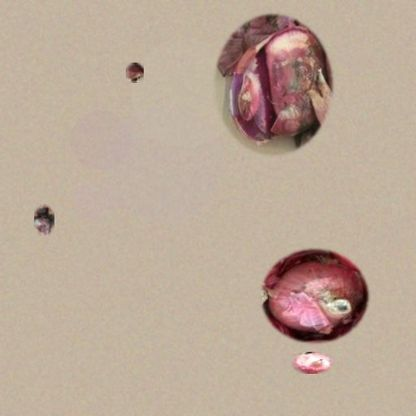damaged: (210, 10, 336, 160)
healthy: (258, 246, 371, 346)
rotten: (292, 352, 333, 374), (34, 204, 54, 236)
sprouted: (126, 63, 144, 83)
